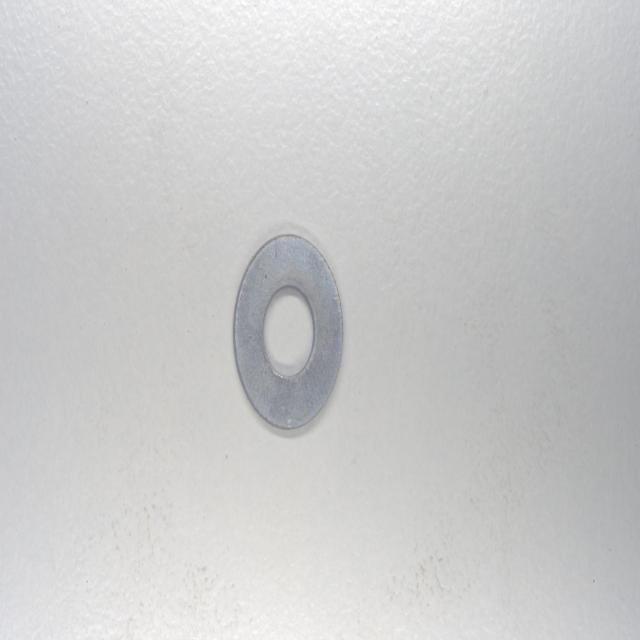washer: (230, 234, 347, 439)
